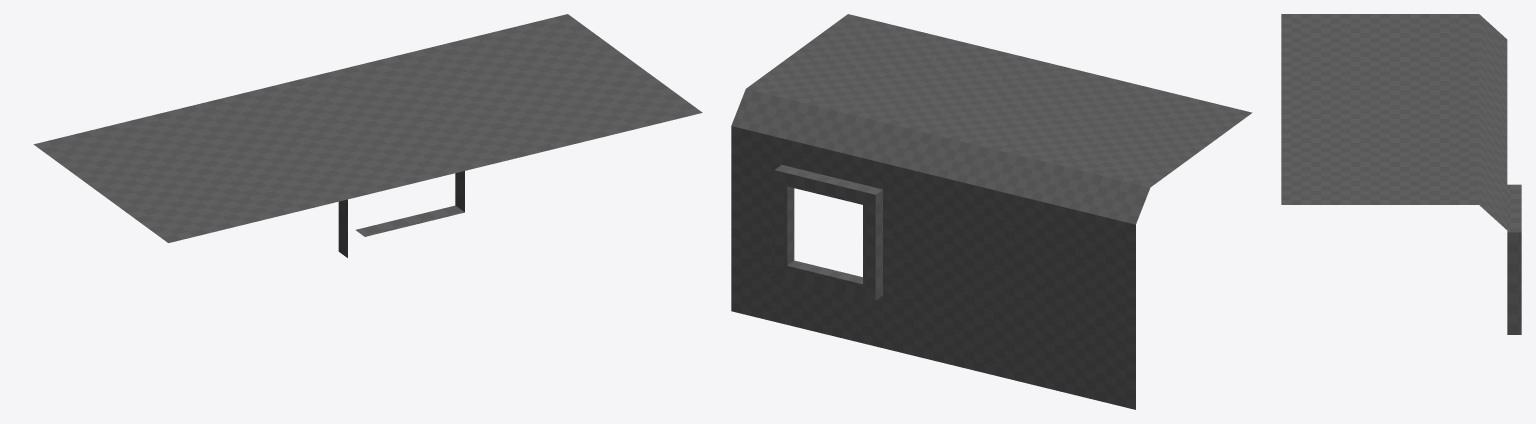
3 renders of one model, left to right at view 1: azimuth 30°, elevation 25°; view 2: azimuth 150°, elevation 25°; view 3: azimuth 270°, elevation 25°, orthographic. The views are drawn at different scales.
Parts seen in each view (by area): view 1: CubeUpBackV1; view 2: CubeUpBackV1; view 3: CubeUpBackV1.
Part boxes in pixels (x1,y1,x2,y2): CubeUpBackV1: (33,14,702,257); CubeUpBackV1: (731,14,1252,409); CubeUpBackV1: (1281,14,1521,334).
Size of the model in its own units: 4 by 2 by 2.12.
1 material, 1 textured.
